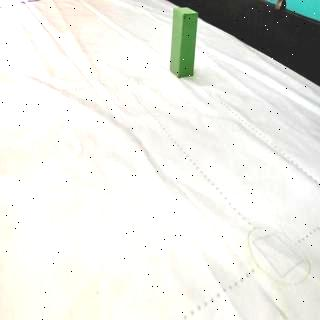greenbox: (168, 6, 199, 79)
